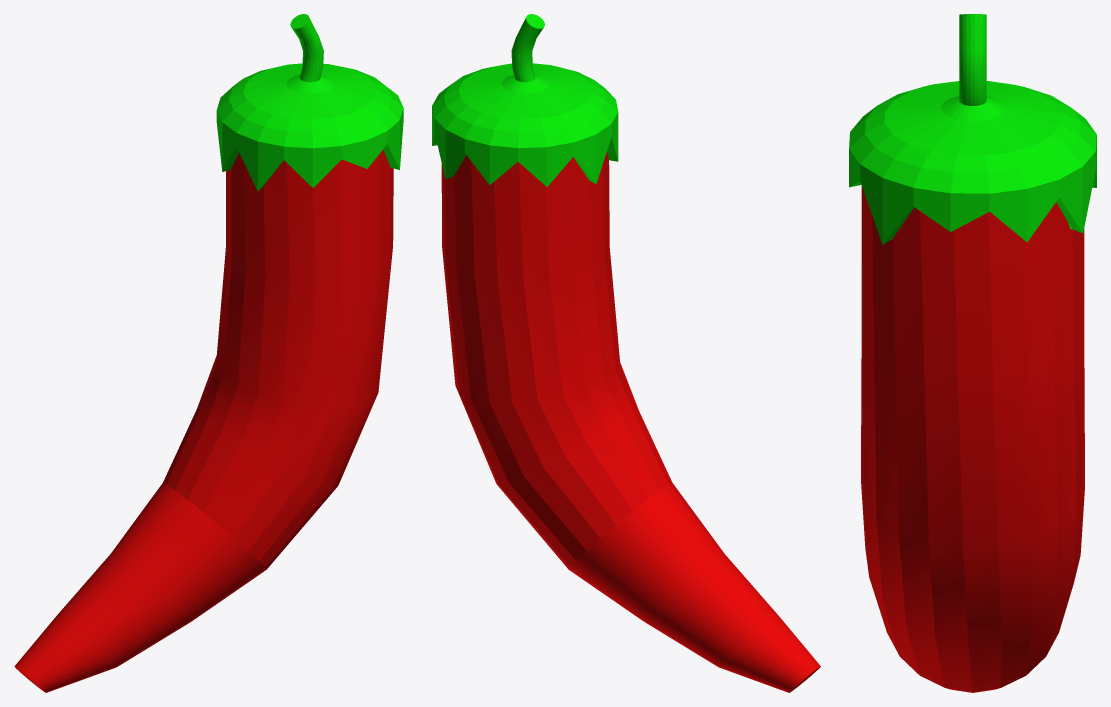
Rendered from chili.fbx.
3 views of the same model, side by side, from view 1: azimuth 30°, elevation 25°; view 2: azimuth 150°, elevation 25°; view 3: azimuth 270°, elevation 25° (orthographic). The views are drawn at different scales.
Parts seen in each view (by area): view 1: base, top; view 2: base, top; view 3: base, top.
Part boxes in pixels (bbox=[...]): base: bbox=[14, 149, 393, 692]; top: bbox=[216, 14, 403, 191]; base: bbox=[441, 152, 820, 692]; top: bbox=[432, 14, 618, 186]; base: bbox=[861, 186, 1084, 692]; top: bbox=[849, 14, 1096, 244].
Size of the model in its own units: 68.03 by 107 by 29.38.
